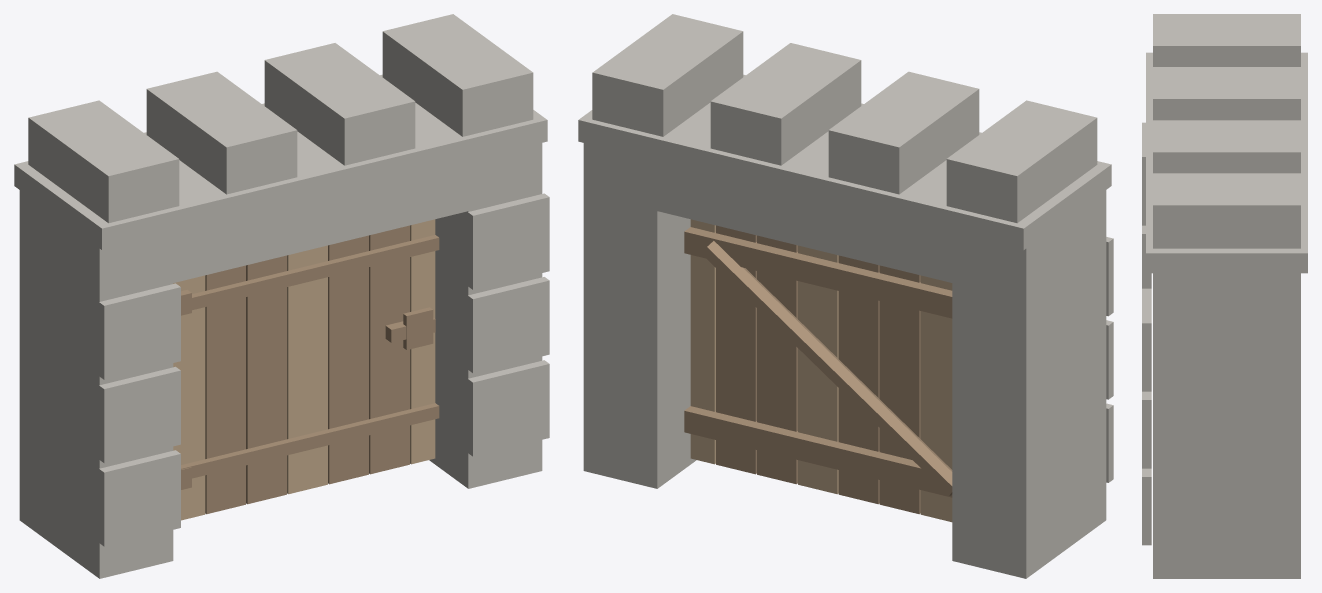
File: gate.glb
3 views of the same model, side by side, from view 1: azimuth 30°, elevation 25°; view 2: azimuth 150°, elevation 25°; view 3: azimuth 270°, elevation 25° (orthographic). The views are drawn at different scales.
Parts seen in each view (by area): view 1: Gate_Stone_Jamb_L, Gate_Stone_Lintel, Gate_Stone_Coping, Gate_Stone_Jamb_R, Gate_Merlon_0, Gate_Merlon_1, Gate_Merlon_2, Gate_Merlon_3, Gate_Plank_4, Gate_Plank_3, Gate_Plank_5, Gate_Plank_2 (+12 smaller); view 2: Gate_Stone_Jamb_L, Gate_Stone_Jamb_R, Gate_Stone_Lintel, Gate_Stone_Coping, Gate_Merlon_0, Gate_Merlon_1, Gate_Merlon_2, Gate_Merlon_3, Gate_Rail_Upper, Gate_Rail_Lower, Gate_Brace, Gate_Plank_6 (+6 smaller); view 3: Gate_Stone_Jamb_R, Gate_Merlon_3, Gate_Merlon_1, Gate_Merlon_2, Gate_Merlon_0, Gate_Stone_Lintel, Gate_Stone_Coping, Gate_Jamb_Stone_1_2, Gate_Jamb_Stone_1_0, Gate_Jamb_Stone_1_1, Gate_Jamb_Stone_0_2, Gate_Jamb_Stone_0_1.
Boxes of the visible parts, x1,y1,x2,y2 form: Gate_Stone_Jamb_L: (19,190,173,578); Gate_Stone_Lintel: (19,143,542,300); Gate_Stone_Coping: (14,74,547,249); Gate_Stone_Jamb_R: (429,153,542,488); Gate_Merlon_0: (28,100,179,223); Gate_Merlon_1: (146,71,297,194); Gate_Merlon_2: (264,43,415,165); Gate_Merlon_3: (382,14,533,136); Gate_Plank_4: (287,245,327,494); Gate_Plank_3: (246,255,286,504); Gate_Plank_5: (328,235,368,484); Gate_Plank_2: (205,265,245,514); Gate_Stone_Jamb_L: (952,190,1106,578); Gate_Stone_Jamb_R: (583,148,696,488); Gate_Stone_Lintel: (583,143,1106,300); Gate_Stone_Coping: (578,74,1111,250); Gate_Merlon_0: (946,100,1097,223); Gate_Merlon_1: (828,71,979,194); Gate_Merlon_2: (710,43,861,165); Gate_Merlon_3: (592,14,743,136); Gate_Rail_Upper: (684,227,952,318); Gate_Rail_Lower: (684,406,952,497); Gate_Brace: (701,241,952,495); Gate_Plank_6: (716,225,756,474); Gate_Stone_Jamb_R: (1153,273,1300,578); Gate_Merlon_3: (1153,173,1300,248); Gate_Merlon_1: (1153,67,1300,120); Gate_Merlon_2: (1153,120,1300,173); Gate_Merlon_0: (1153,14,1300,66); Gate_Stone_Lintel: (1153,273,1300,322); Gate_Stone_Coping: (1146,52,1307,273); Gate_Jamb_Stone_1_2: (1142,288,1151,391); Gate_Jamb_Stone_1_0: (1142,468,1151,545); Gate_Jamb_Stone_1_1: (1142,391,1151,468); Gate_Jamb_Stone_0_2: (1142,122,1145,225); Gate_Jamb_Stone_0_1: (1142,225,1151,288).
Size of the model in its own units: 1.01 by 0.865 by 0.3517.
